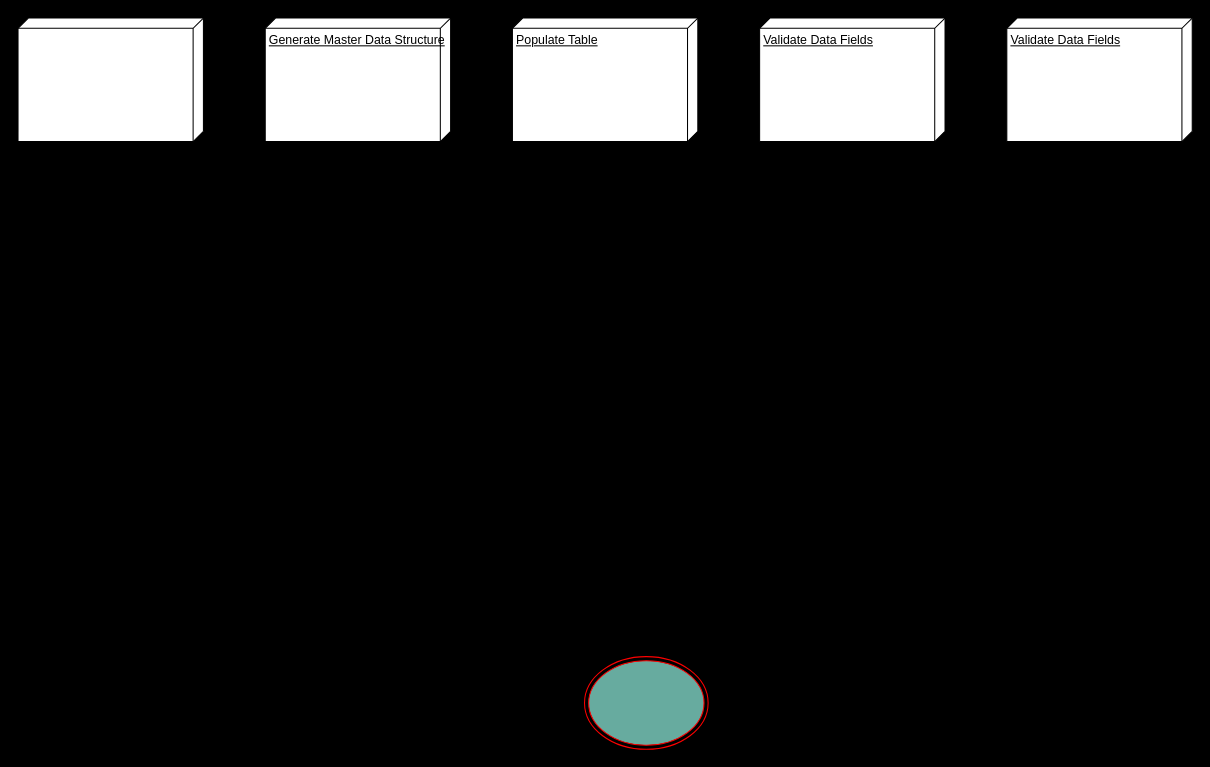
Some shapes in this 1210 by 767 pixel diagram are drawn without their labels. Here are the shapes that lost their labels. From the top down, the centre of each, then its label:
At [110,79]: "Read Master Data Structure".
At [645,702]: "SAP compliant data tables".
